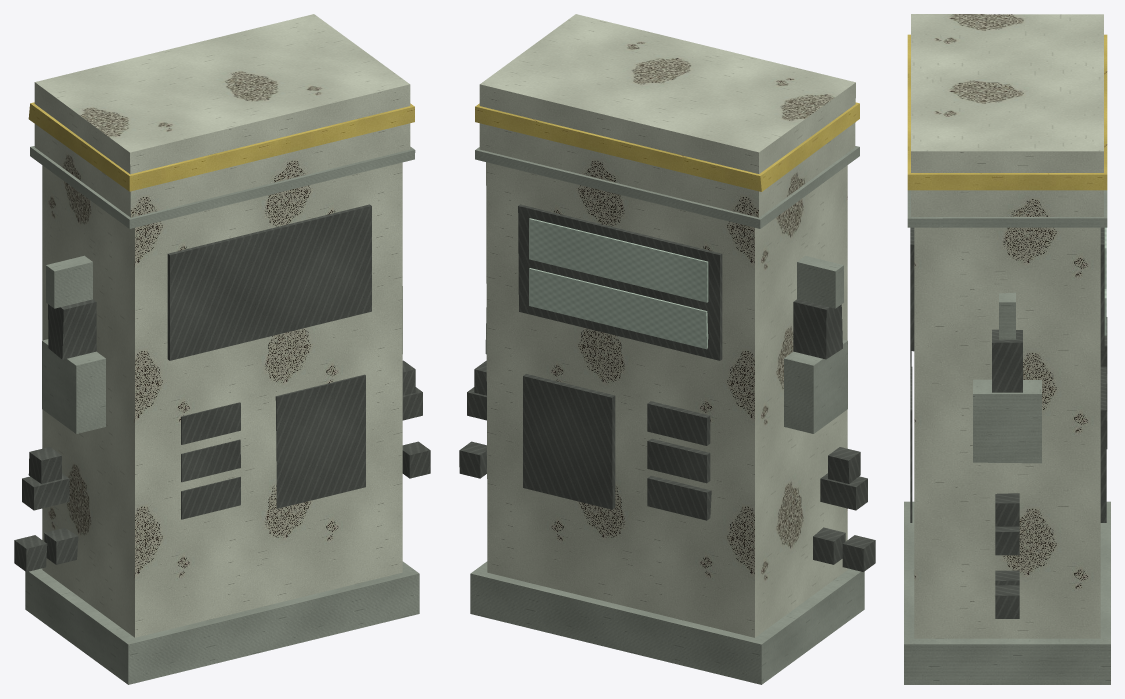
File: pump_v1.glb
The picture shows the model from 3 angles, left to right: view 1: azimuth 30°, elevation 25°; view 2: azimuth 150°, elevation 25°; view 3: azimuth 270°, elevation 25°; orthographic projection.
Visible parts, largest first — view 1: Variant_pump_1; view 2: Variant_pump_1; view 3: Variant_pump_1.
Boxes of the visible parts, x1,y1,x2,y2 form: Variant_pump_1: [14, 14, 430, 684]; Variant_pump_1: [459, 14, 875, 684]; Variant_pump_1: [904, 14, 1110, 684].
Size of the model in its own units: 1.36 by 1.7 by 0.6.
Materials: 5 (5 with a texture image).
